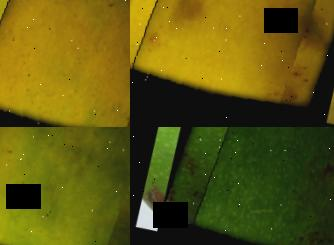PartiallyRipe: (0, 127, 130, 245)
Ripe: (130, 0, 334, 127), (0, 0, 130, 127)
Unripe: (156, 127, 334, 245)
